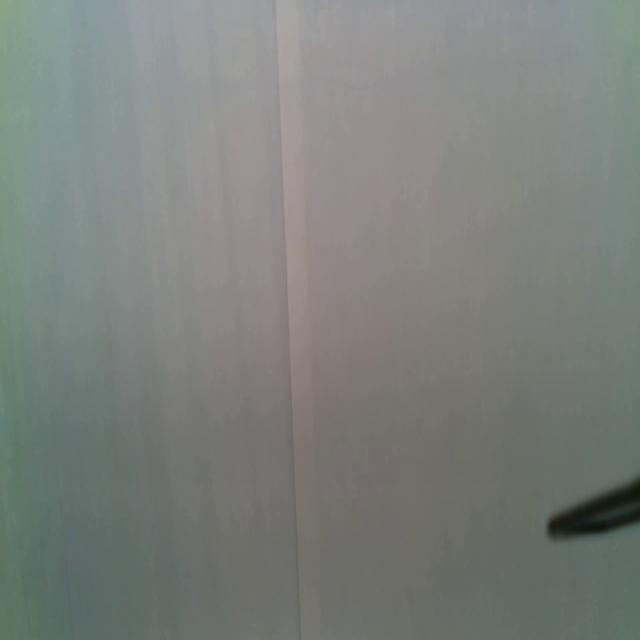crease: (274, 0, 302, 640)
